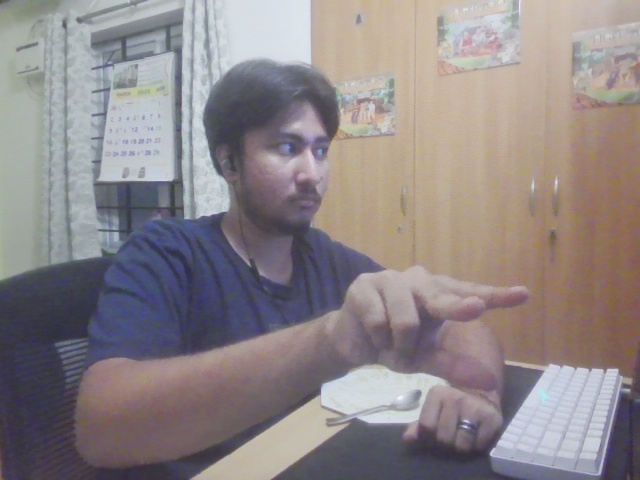no: (322, 260, 540, 396)
